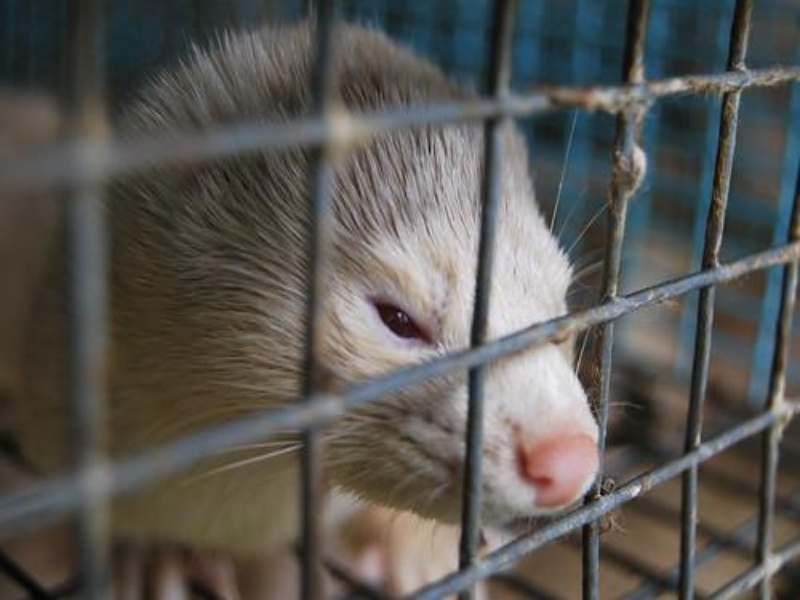minkish: (8, 17, 606, 571)
